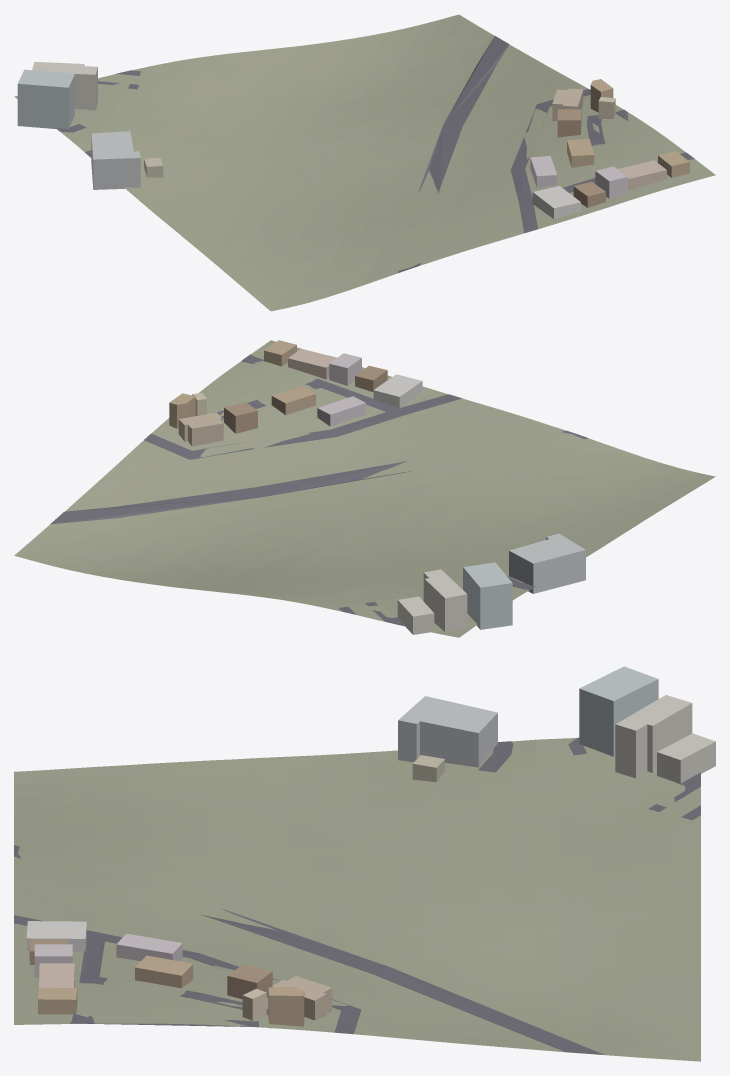
Rendered from chunk_4_4.glb.
The picture shows the model from 3 angles, top to bottom: view 1: azimuth 30°, elevation 25°; view 2: azimuth 150°, elevation 25°; view 3: azimuth 270°, elevation 25°; orthographic projection. The views are drawn at different scales.
Visible parts, largest first — view 1: geometry_16, geometry_1, geometry_18, geometry_4, geometry_3, geometry_13, geometry_28, geometry_8, geometry_7, geometry_12, geometry_14, geometry_9 (+4 smaller); view 2: geometry_16, geometry_18, geometry_4, geometry_1, geometry_3, geometry_28, geometry_9, geometry_13, geometry_0, geometry_12, geometry_8, geometry_14 (+7 smaller); view 3: geometry_16, geometry_4, geometry_18, geometry_1, geometry_3, geometry_0, geometry_14, geometry_15, geometry_12, geometry_13, geometry_9, geometry_28 (+7 smaller).
Boxes of the visible parts, x1,y1,x2,y2 form: geometry_16: (14,14,715,311); geometry_1: (17,69,74,129); geometry_18: (398,36,509,272); geometry_4: (91,131,140,189); geometry_3: (32,61,97,110); geometry_13: (532,186,580,219); geometry_28: (510,89,590,202); geometry_8: (617,160,666,190); geometry_7: (595,166,627,198); geometry_12: (530,156,557,187); geometry_14: (567,139,594,167); geometry_9: (552,88,583,121); geometry_16: (14,340,715,637); geometry_18: (50,430,588,524); geometry_4: (509,533,585,593); geometry_1: (463,562,512,629); geometry_3: (423,569,467,632); geometry_28: (144,411,403,459); geometry_9: (178,412,223,446); geometry_13: (373,374,422,408); geometry_0: (397,596,434,634); geometry_12: (317,396,365,426); geometry_8: (288,348,336,379); geometry_14: (271,386,315,415); geometry_16: (14,738,700,1061); geometry_4: (398,696,497,767); geometry_18: (14,845,604,1054); geometry_1: (579,666,658,756); geometry_3: (615,695,692,778); geometry_0: (657,733,715,783); geometry_14: (135,955,193,988); geometry_15: (268,987,304,1028); geometry_12: (116,933,182,961); geometry_13: (26,921,86,951); geometry_9: (271,976,332,1020); geometry_28: (94,932,361,1033).
Bounding box in the file's own units: 264 × 36.33 × 256.
